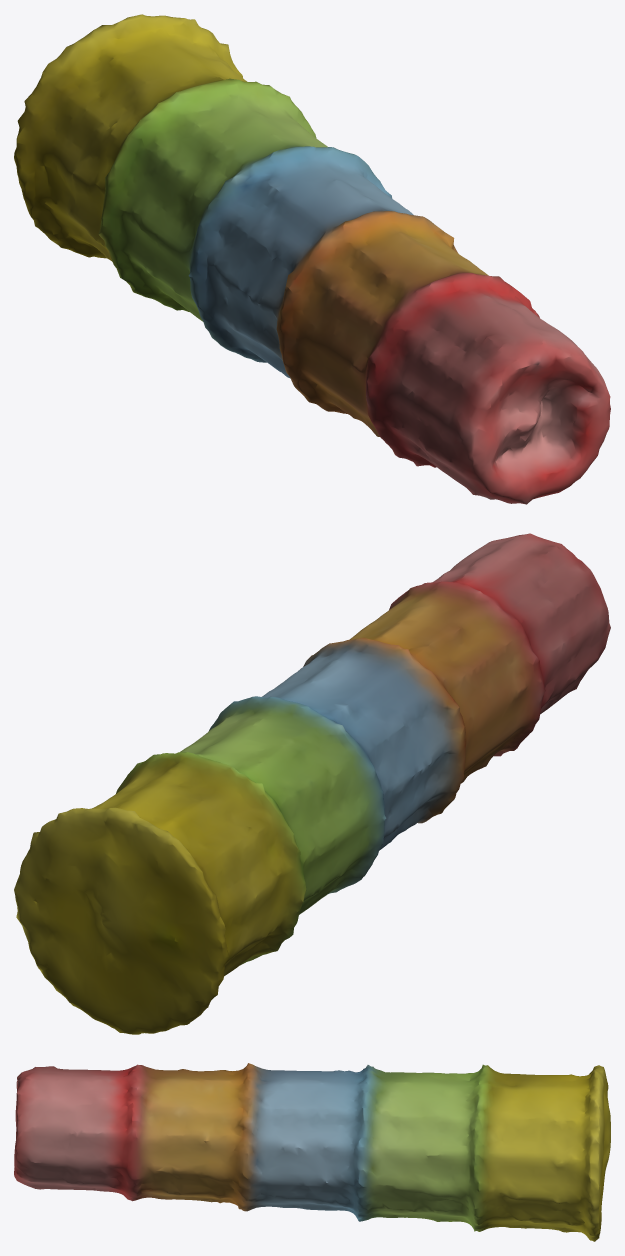
File: stucking_cups.glb
3 renders of one model, top to bottom at view 1: azimuth 30°, elevation 25°; view 2: azimuth 150°, elevation 25°; view 3: azimuth 270°, elevation 25°, orthographic. The views are drawn at different scales.
Bounding box in the file's own units: 0.2942 × 0.2949 × 0.9946.
